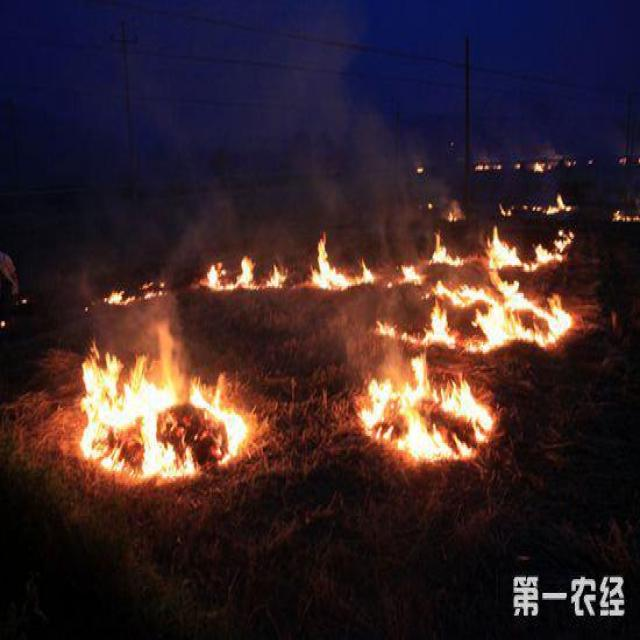fire: (61, 346, 261, 479), (359, 349, 518, 472), (345, 269, 573, 354), (110, 247, 577, 274)
